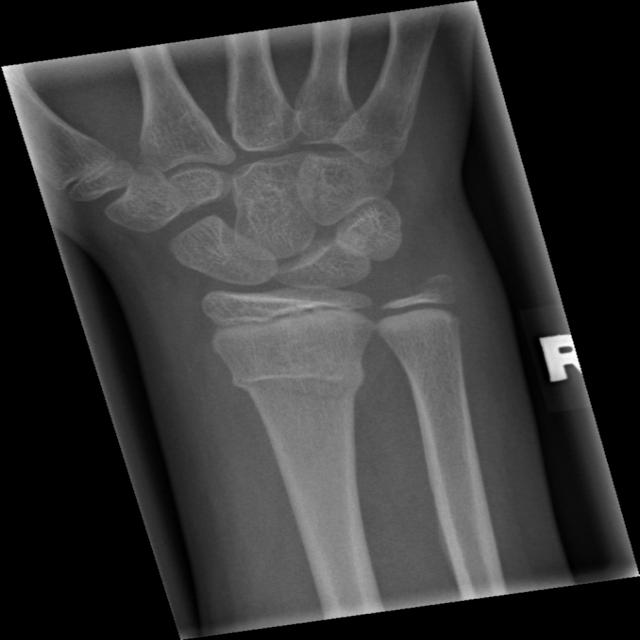radius fracture: (218, 358, 386, 425)
